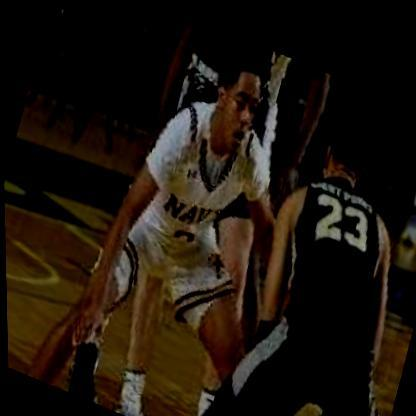basketball: (247, 399, 326, 416)
